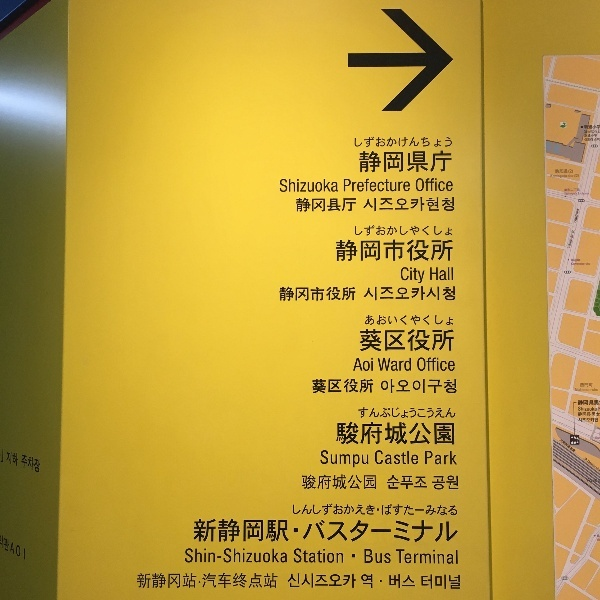text: (273, 518, 289, 543), (321, 520, 336, 546), (337, 520, 352, 546), (353, 520, 368, 546), (369, 520, 384, 546), (385, 520, 400, 546), (401, 520, 416, 546), (417, 520, 432, 546), (433, 520, 448, 546), (337, 421, 352, 446), (353, 421, 368, 446), (369, 421, 384, 446), (385, 421, 400, 446), (401, 421, 416, 446), (417, 421, 432, 446), (433, 421, 448, 446), (209, 518, 224, 543), (225, 518, 240, 543), (241, 518, 256, 543), (257, 518, 272, 543), (337, 239, 352, 263), (353, 239, 368, 263), (369, 239, 384, 263), (385, 239, 400, 263), (401, 239, 416, 263), (417, 239, 432, 263), (433, 239, 448, 263), (194, 518, 208, 543), (369, 151, 384, 174), (385, 151, 400, 174), (401, 151, 416, 174), (417, 151, 432, 174), (433, 151, 448, 174), (369, 329, 384, 352), (385, 329, 400, 352), (401, 329, 416, 352), (417, 329, 432, 352), (433, 329, 448, 352), (4, 536, 16, 561), (309, 520, 320, 546), (449, 520, 459, 546), (353, 451, 369, 467), (401, 267, 416, 284), (401, 474, 416, 491), (417, 474, 432, 491), (433, 474, 448, 491), (193, 548, 208, 565), (209, 548, 224, 565), (225, 548, 240, 565), (241, 548, 256, 565), (257, 548, 272, 565), (273, 548, 288, 565), (145, 573, 160, 590), (161, 573, 176, 590), (177, 573, 192, 590), (289, 178, 304, 194), (305, 178, 320, 194), (321, 178, 336, 194), (369, 197, 384, 213), (385, 197, 400, 213), (401, 197, 416, 213), (417, 197, 432, 213), (433, 197, 448, 213), (289, 286, 304, 302), (305, 286, 320, 302), (321, 286, 336, 302), (337, 286, 352, 302), (369, 286, 384, 302), (385, 286, 400, 302), (401, 286, 416, 302), (417, 286, 432, 302), (433, 286, 448, 302), (385, 379, 400, 395), (401, 379, 416, 395), (417, 379, 432, 395), (433, 379, 448, 395), (321, 451, 336, 467), (337, 451, 352, 467), (305, 474, 320, 490), (321, 474, 336, 490), (337, 474, 352, 490), (353, 474, 368, 490), (305, 549, 320, 565), (321, 549, 336, 565), (337, 549, 352, 565), (353, 549, 368, 565), (369, 549, 384, 565), (401, 549, 416, 565), (417, 549, 432, 565), (433, 549, 448, 565), (209, 573, 224, 589), (225, 573, 240, 589), (241, 573, 256, 589), (257, 573, 272, 589), (289, 573, 304, 589), (305, 573, 320, 589), (321, 573, 336, 589), (337, 573, 352, 589), (353, 573, 368, 589), (386, 474, 400, 491), (305, 198, 320, 213), (321, 198, 336, 213), (337, 198, 352, 213), (321, 379, 336, 394), (337, 379, 352, 394), (353, 379, 368, 394), (385, 451, 400, 466), (401, 451, 416, 466), (433, 451, 448, 466), (401, 575, 416, 590), (417, 575, 432, 590), (433, 575, 448, 590), (17, 536, 26, 561), (353, 179, 368, 193), (369, 179, 384, 193), (385, 179, 400, 193), (417, 179, 432, 193), (433, 179, 448, 193), (369, 224, 384, 238), (385, 224, 400, 238), (401, 224, 416, 238), (417, 224, 432, 238), (433, 224, 448, 238), (433, 267, 448, 281), (417, 357, 432, 371), (433, 357, 448, 371), (359, 151, 368, 174), (22, 454, 32, 474), (385, 358, 400, 371), (305, 503, 320, 516), (321, 503, 336, 516), (337, 503, 352, 516), (353, 503, 368, 516), (385, 504, 400, 517), (401, 504, 416, 517), (417, 504, 432, 517), (433, 504, 448, 517), (360, 329, 368, 352), (355, 224, 368, 238), (369, 408, 384, 420), (385, 408, 400, 420), (401, 408, 416, 420), (417, 408, 432, 420), (433, 408, 448, 420), (449, 575, 461, 590), (449, 474, 459, 491), (369, 137, 384, 148), (385, 137, 400, 148), (401, 137, 416, 148), (417, 137, 432, 148), (433, 137, 448, 148), (369, 315, 384, 326), (385, 315, 400, 326), (401, 315, 416, 326), (417, 315, 432, 326), (433, 315, 448, 326), (389, 575, 400, 590), (294, 549, 304, 565), (33, 454, 41, 474), (357, 358, 368, 372), (449, 421, 455, 446), (449, 549, 458, 565), (7, 451, 16, 467), (355, 137, 368, 148), (401, 358, 412, 371), (293, 503, 304, 516), (401, 179, 411, 193), (417, 267, 425, 284), (375, 451, 384, 466), (280, 178, 288, 194), (280, 286, 288, 302), (449, 379, 457, 395), (312, 379, 320, 394), (358, 408, 368, 420), (449, 451, 457, 466), (137, 573, 144, 590), (449, 504, 458, 517), (449, 329, 454, 352), (344, 179, 352, 193), (449, 286, 456, 302), (369, 474, 376, 490), (385, 549, 392, 565), (297, 198, 304, 213), (425, 451, 432, 466), (186, 548, 192, 565), (449, 197, 455, 213), (449, 239, 453, 263), (202, 573, 208, 589), (449, 357, 455, 371), (449, 408, 456, 420), (363, 197, 368, 213), (395, 549, 400, 565), (273, 573, 278, 589), (378, 358, 384, 371), (369, 503, 375, 516), (369, 379, 374, 394), (449, 267, 454, 281), (369, 358, 374, 372), (449, 151, 452, 174), (193, 573, 197, 590), (364, 286, 368, 302), (369, 573, 373, 589), (353, 198, 357, 213), (449, 179, 453, 193), (449, 224, 453, 238), (449, 315, 454, 326), (353, 286, 356, 302), (381, 379, 384, 395), (449, 137, 452, 148), (365, 315, 368, 326), (337, 178, 339, 194), (302, 474, 304, 490), (17, 451, 19, 467), (417, 451, 419, 466), (430, 267, 432, 281), (382, 504, 384, 517)
